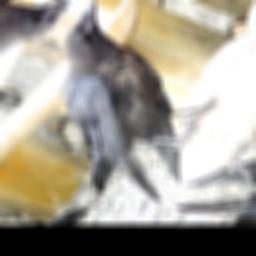Crow: (0, 0, 256, 216)
